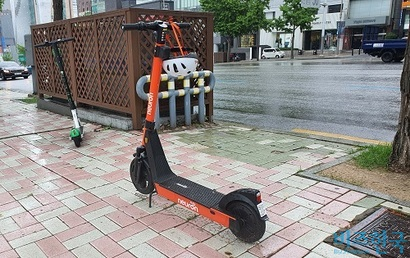scooter: (121, 19, 270, 245), (36, 37, 92, 149)
